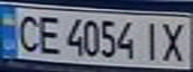0: (81, 16, 100, 58)
4: (115, 18, 142, 61), (63, 15, 84, 57)
5: (100, 17, 121, 59)
C: (9, 11, 42, 54)
E: (33, 12, 63, 55)
I: (139, 18, 163, 62)
X: (157, 18, 193, 63)
